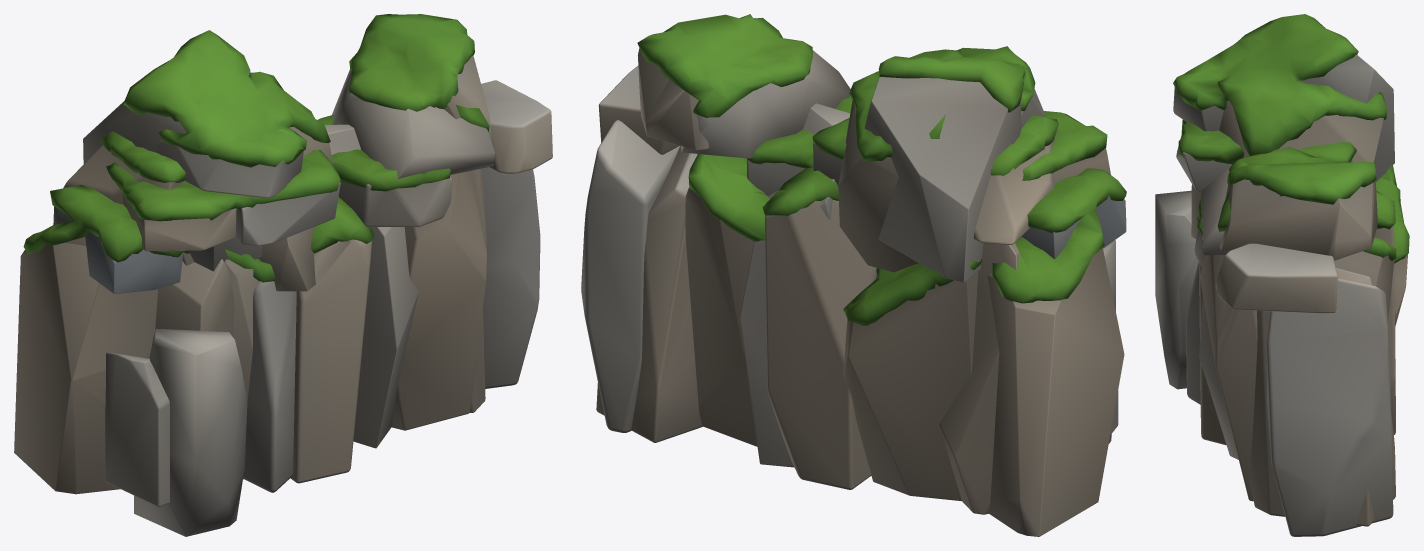
File: glade_bluff_rim_lod1.glb
3 views of the same model, side by side, from view 1: azimuth 30°, elevation 25°; view 2: azimuth 150°, elevation 25°; view 3: azimuth 270°, elevation 25° (orthographic). The views are drawn at different scales.
Visible parts, largest first — view 1: glade_bluff_rim.001, moss.001; view 2: glade_bluff_rim.001, moss.001; view 3: glade_bluff_rim.001, moss.001.
Part boxes in pixels (bbox=[...]): glade_bluff_rim.001: bbox=[14, 55, 552, 536]; moss.001: bbox=[23, 14, 489, 282]; glade_bluff_rim.001: bbox=[581, 48, 1126, 536]; moss.001: bbox=[637, 14, 1126, 325]; glade_bluff_rim.001: bbox=[1155, 54, 1407, 536]; moss.001: bbox=[1173, 14, 1409, 263].
Size of the model in its own units: 34.55 by 28.35 by 17.36.
